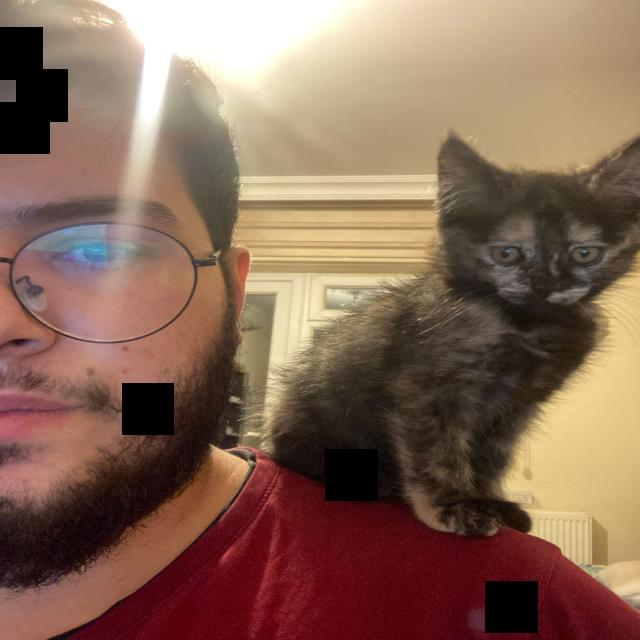authorized: (250, 127, 638, 538)
